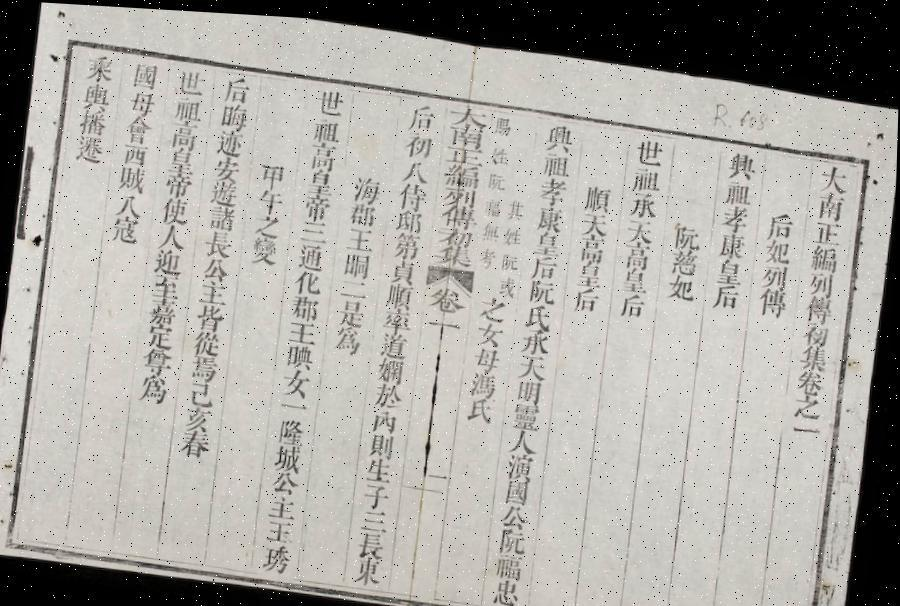c: (724, 139, 760, 175), (428, 279, 468, 311), (541, 114, 576, 150), (260, 538, 297, 572), (816, 152, 852, 186), (279, 364, 316, 397), (441, 157, 483, 186), (178, 426, 216, 458), (353, 550, 388, 584), (82, 49, 116, 84), (173, 64, 209, 97), (814, 180, 848, 214), (128, 57, 162, 91), (220, 70, 254, 104), (669, 211, 704, 244), (580, 175, 615, 208), (536, 169, 571, 202), (792, 382, 828, 414), (72, 132, 108, 164), (510, 394, 546, 426), (115, 162, 151, 194), (432, 238, 476, 264), (78, 78, 112, 111), (633, 128, 667, 161), (576, 226, 610, 259), (764, 199, 798, 232), (138, 371, 172, 404), (335, 292, 369, 325), (202, 225, 236, 258), (159, 193, 193, 226), (356, 524, 391, 556), (664, 264, 699, 296), (756, 278, 791, 310), (273, 439, 308, 471), (447, 100, 490, 126), (515, 346, 552, 376), (405, 97, 438, 130), (314, 83, 347, 116), (164, 144, 198, 176), (121, 112, 155, 144), (498, 520, 532, 552), (505, 445, 539, 477), (194, 298, 228, 330), (808, 233, 842, 265), (306, 137, 340, 169), (110, 212, 144, 244), (802, 284, 836, 316), (378, 325, 412, 357), (216, 99, 250, 131), (213, 125, 247, 157), (716, 222, 750, 254), (294, 237, 328, 269), (396, 176, 430, 208), (141, 344, 176, 375), (187, 350, 222, 381), (667, 239, 702, 270), (629, 157, 664, 188), (190, 325, 225, 356), (204, 200, 239, 231), (206, 175, 241, 206), (289, 289, 324, 320), (146, 295, 182, 325), (491, 572, 527, 602), (538, 144, 574, 174), (446, 120, 487, 146), (426, 310, 464, 338), (248, 232, 281, 264), (332, 322, 365, 354), (350, 170, 383, 202), (362, 476, 396, 507), (624, 208, 658, 239), (170, 93, 204, 124), (718, 195, 752, 226), (372, 376, 406, 407), (477, 288, 511, 319), (149, 272, 184, 302), (508, 420, 543, 450), (76, 106, 111, 136), (519, 321, 554, 351), (144, 320, 180, 349), (439, 198, 479, 224), (622, 232, 654, 264), (392, 226, 424, 258), (168, 118, 201, 149), (182, 402, 216, 432), (495, 546, 529, 576), (798, 334, 832, 364), (268, 489, 302, 519), (626, 182, 660, 212), (156, 220, 190, 250), (722, 170, 756, 200), (466, 390, 500, 420), (309, 112, 343, 142), (468, 364, 502, 394), (152, 246, 186, 276), (284, 338, 318, 368), (292, 264, 326, 294), (265, 513, 300, 542), (437, 219, 477, 244), (277, 412, 309, 443), (341, 246, 374, 276), (574, 254, 607, 284), (186, 376, 219, 406), (303, 166, 336, 196), (617, 284, 650, 314), (402, 126, 435, 156), (794, 358, 828, 387), (162, 169, 196, 198), (344, 221, 378, 250), (300, 190, 334, 219), (196, 276, 231, 304), (442, 140, 486, 162), (440, 180, 480, 204), (368, 426, 400, 456), (759, 253, 792, 282), (761, 228, 794, 257), (531, 223, 564, 252), (472, 339, 505, 368), (210, 152, 243, 181), (523, 297, 556, 326), (475, 314, 508, 343), (500, 496, 534, 524), (270, 466, 304, 494), (286, 315, 320, 343), (381, 302, 415, 330), (578, 204, 612, 232), (714, 249, 746, 278), (384, 278, 416, 307), (789, 409, 826, 434), (619, 260, 652, 288), (811, 209, 844, 237), (364, 452, 397, 480), (528, 248, 561, 276), (526, 272, 559, 300), (360, 503, 394, 530), (118, 140, 152, 167), (258, 158, 289, 187), (806, 260, 838, 288), (126, 88, 158, 116), (711, 275, 743, 303), (571, 280, 603, 308), (376, 352, 408, 380), (534, 199, 566, 227), (346, 197, 379, 224), (298, 216, 331, 243), (255, 185, 286, 213), (503, 472, 534, 500), (514, 372, 546, 399), (114, 191, 146, 218), (370, 403, 402, 430), (400, 154, 432, 181), (801, 312, 834, 338), (388, 254, 419, 281), (200, 254, 232, 280), (252, 210, 284, 236), (394, 204, 426, 230), (339, 274, 370, 296), (495, 268, 521, 294), (504, 191, 528, 218), (278, 394, 312, 413), (488, 138, 513, 163), (491, 108, 515, 134), (501, 219, 525, 243), (485, 165, 509, 189), (482, 190, 506, 214), (480, 214, 503, 239), (498, 245, 522, 268), (478, 240, 499, 264)
